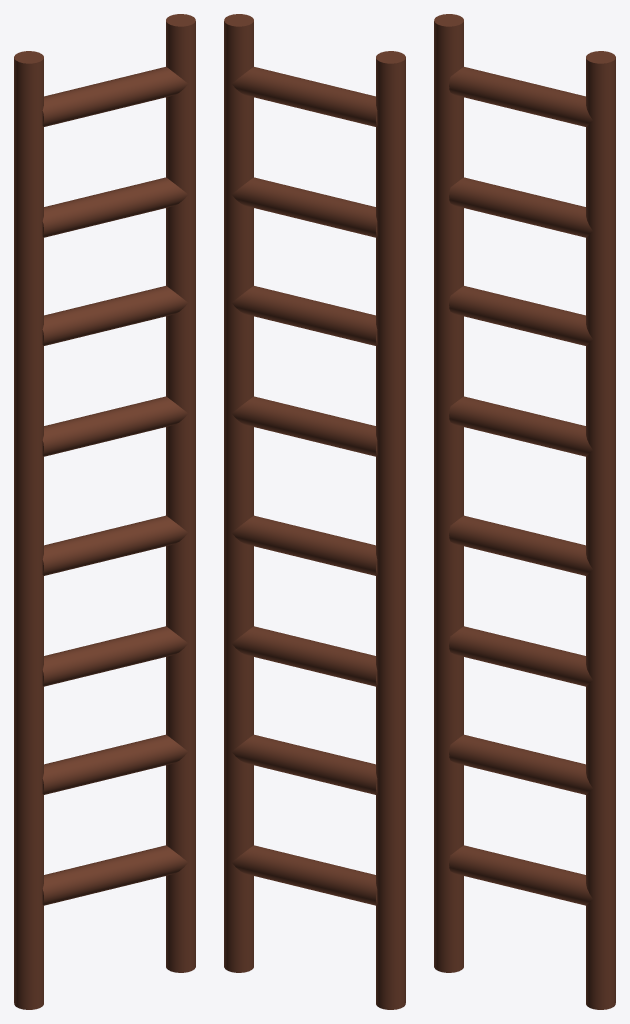
Rendered from escalera.obj.
3 renders of one model, left to right at view 1: azimuth 30°, elevation 25°; view 2: azimuth 150°, elevation 25°; view 3: azimuth 330°, elevation 25°, orthographic.
Parts seen in each view (by area): view 1: pCylinder9, pCylinder10, pCylinder14, pCylinder11, pCylinder18, pCylinder17, pCylinder16, pCylinder12, pCylinder15, pCylinder13; view 2: pCylinder9, pCylinder10, pCylinder14, pCylinder11, pCylinder18, pCylinder17, pCylinder16, pCylinder12, pCylinder13, pCylinder15; view 3: pCylinder10, pCylinder9, pCylinder14, pCylinder18, pCylinder16, pCylinder12, pCylinder17, pCylinder11, pCylinder13, pCylinder15.
Part boxes in pixels (box(x1,y1,x2,y2)): pCylinder9: box(14, 51, 43, 1009); pCylinder10: box(166, 14, 195, 972); pCylinder14: box(42, 626, 187, 686); pCylinder11: box(42, 845, 187, 905); pCylinder18: box(42, 177, 188, 237); pCylinder17: box(42, 67, 187, 126); pCylinder16: box(42, 396, 188, 456); pCylinder12: box(42, 734, 187, 794); pCylinder15: box(42, 286, 187, 345); pCylinder13: box(42, 515, 187, 575); pCylinder9: box(376, 51, 405, 1009); pCylinder10: box(224, 14, 253, 972); pCylinder14: box(232, 626, 377, 686); pCylinder11: box(232, 845, 377, 905); pCylinder18: box(231, 177, 377, 237); pCylinder17: box(232, 67, 377, 126); pCylinder16: box(231, 396, 377, 456); pCylinder12: box(232, 734, 377, 794); pCylinder13: box(232, 515, 377, 575); pCylinder15: box(232, 286, 377, 345); pCylinder10: box(586, 51, 615, 1009); pCylinder9: box(434, 14, 463, 972); pCylinder14: box(449, 626, 592, 686); pCylinder18: box(449, 177, 592, 237); pCylinder16: box(449, 396, 592, 456); pCylinder12: box(449, 734, 592, 794); pCylinder17: box(449, 67, 592, 126); pCylinder11: box(449, 845, 592, 905); pCylinder13: box(449, 515, 592, 575); pCylinder15: box(449, 286, 592, 345).
Bounding box in the file's own units: 1.83 × 9.32 × 0.2683.
1 material, 1 textured.
